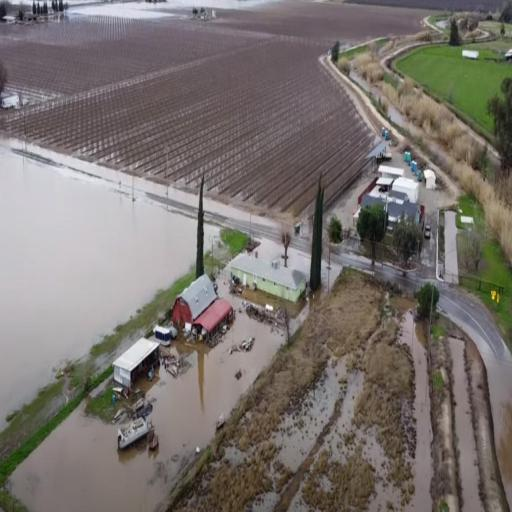flood: (0, 142, 196, 428), (9, 313, 282, 511), (251, 333, 432, 511), (441, 287, 512, 510), (67, 0, 200, 17), (210, 0, 270, 8)
house: (226, 251, 304, 313), (174, 272, 232, 344), (111, 335, 161, 398), (385, 203, 422, 228), (392, 175, 418, 203), (359, 190, 383, 216), (376, 163, 405, 182)
